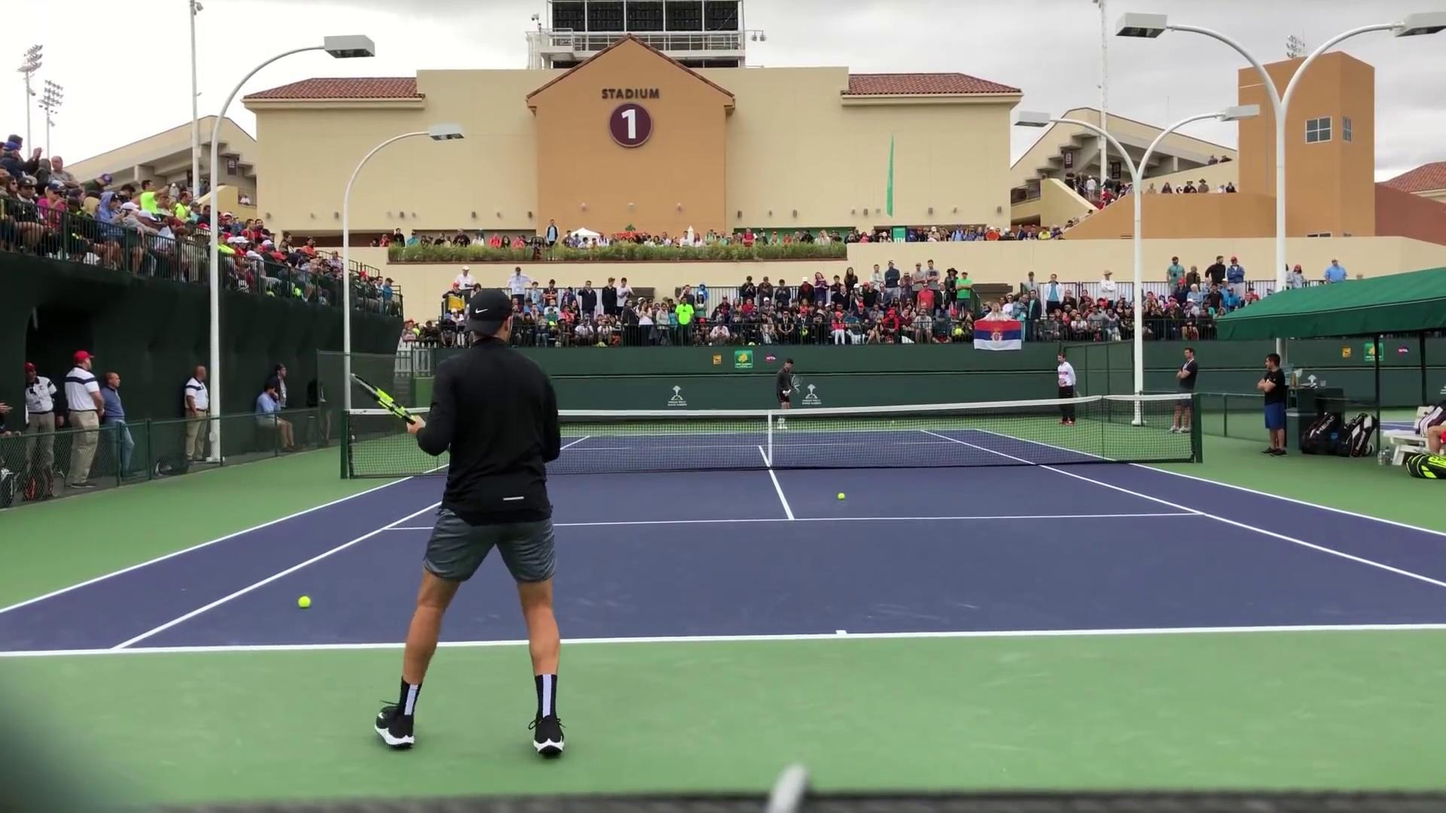ball: (298, 596, 310, 609), (836, 492, 846, 500)
